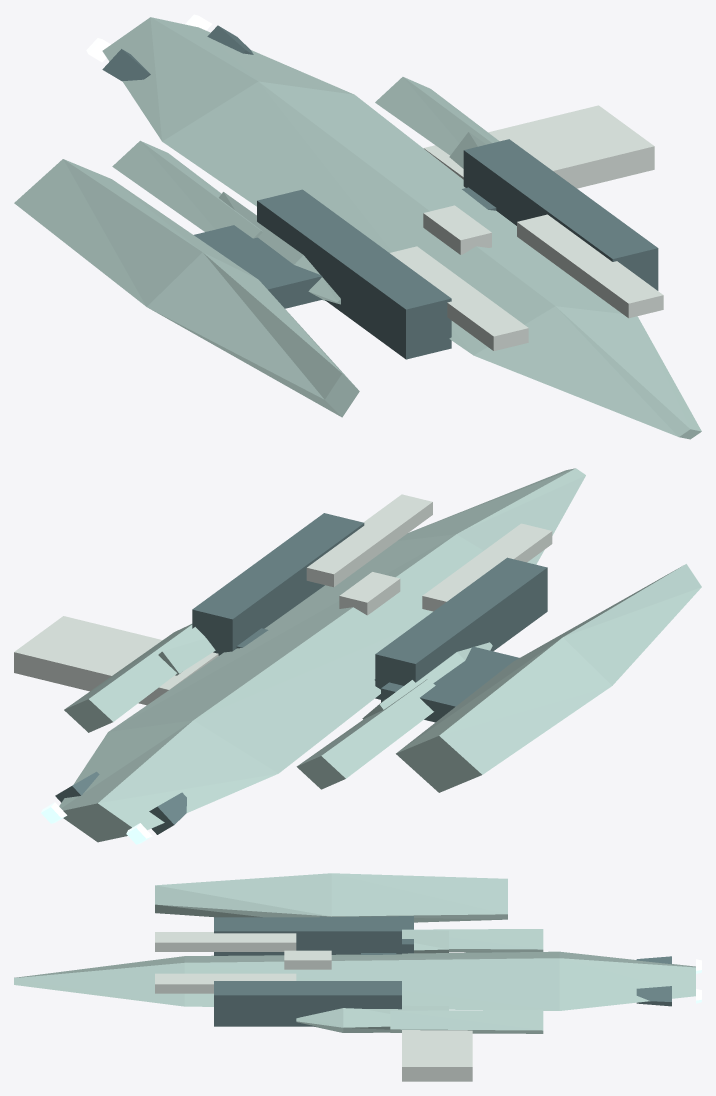
3 renders of one model, top to bottom at view 1: azimuth 30°, elevation 25°; view 2: azimuth 150°, elevation 25°; view 3: azimuth 270°, elevation 25°, orthographic. The views are drawn at different scales.
Size of the model in its own units: 6.5 by 1.02 by 10.88.
